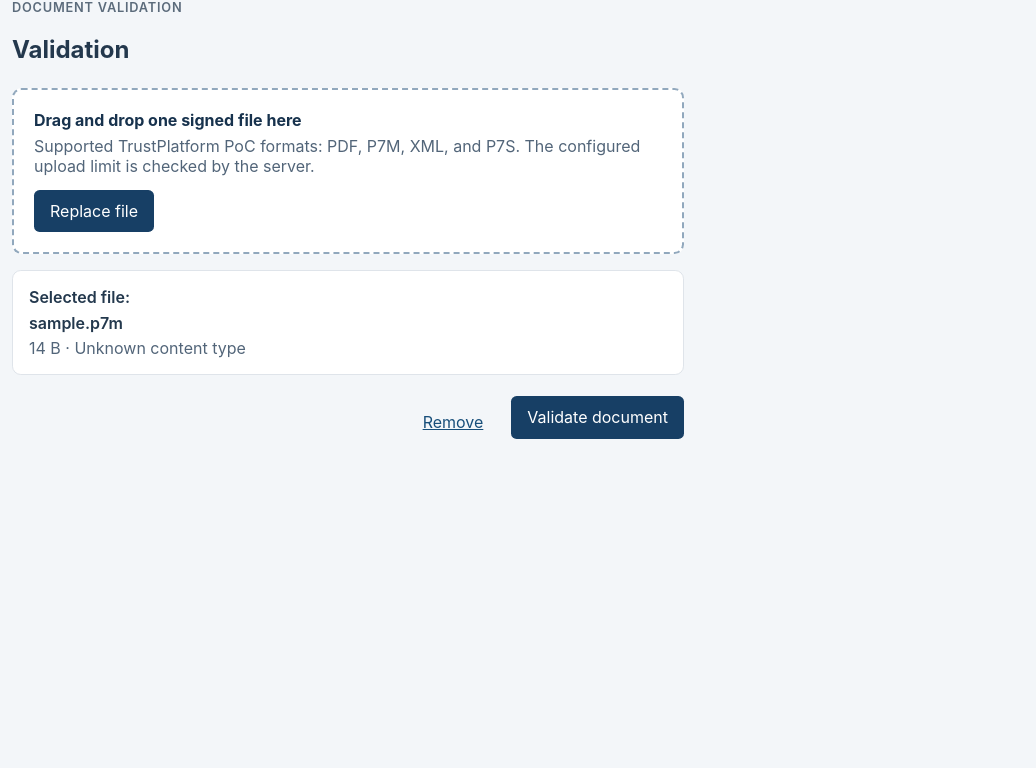
Test: ValidationPage › shows sanitized parse diagnostics in a Development-only expandable section
Earlier steps of the test are not shown.
Click the button "Validate document": (598, 418) [511,396,684,439]
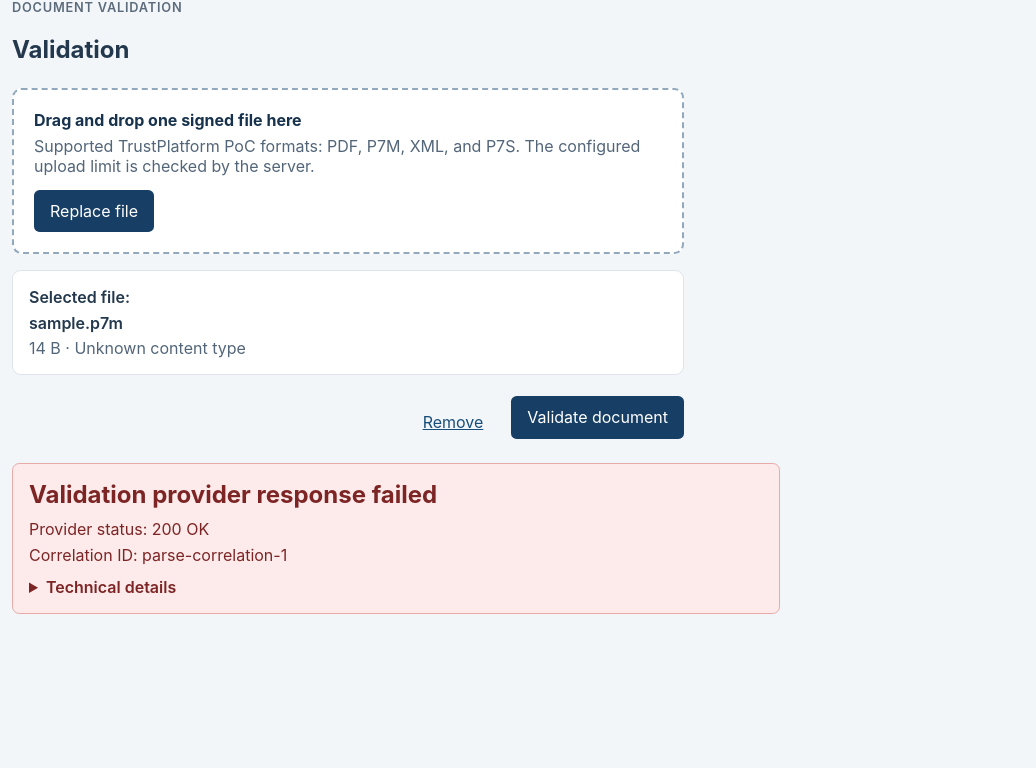
Click the heading "Technical details": (111, 587) [46,577,176,597]
(page scrolled)
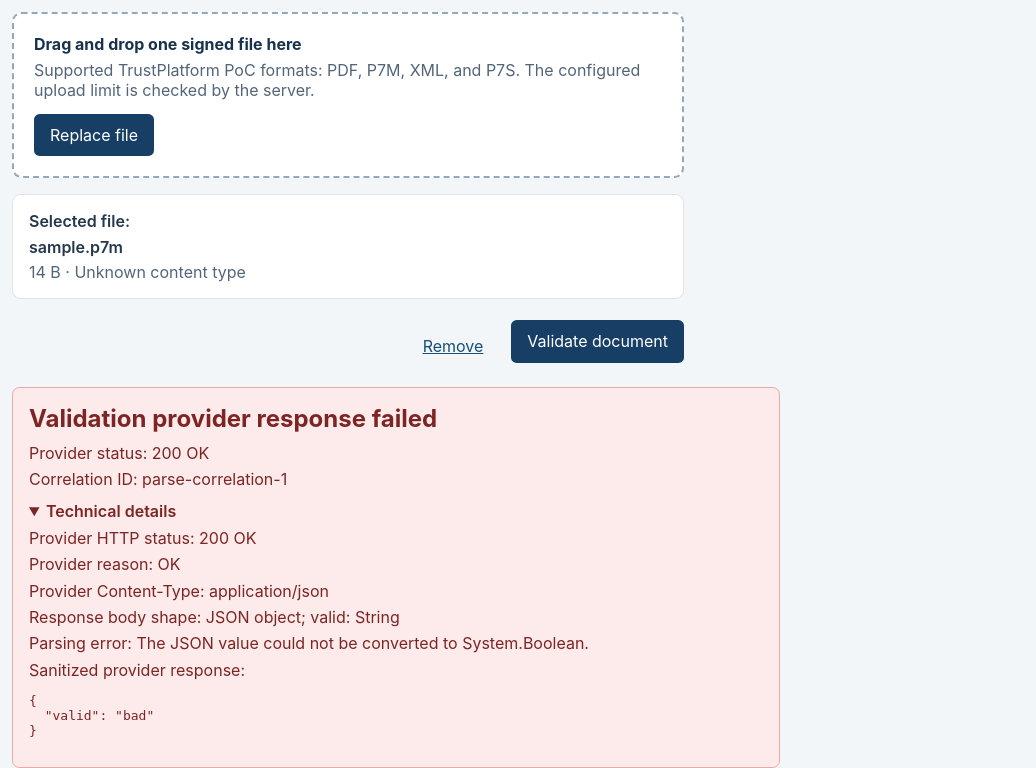
expect the message shows "Provider HTTP status: 200 OK": met, box [12,387,780,767]
expect the message shows "Provider Content-Type: application/json": met, box [12,387,780,767]
expect the message shows "Parsing error: The JSON value could not be converted to System.Boolean.": met, box [12,387,780,767]
